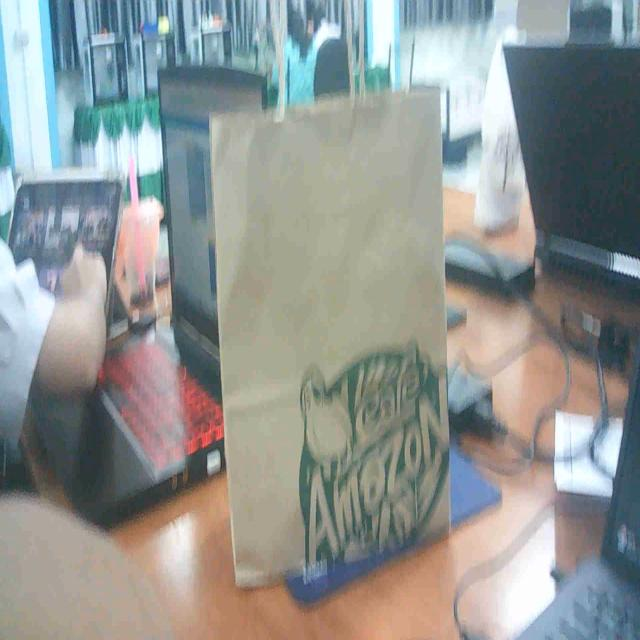bag: (206, 80, 457, 590)
